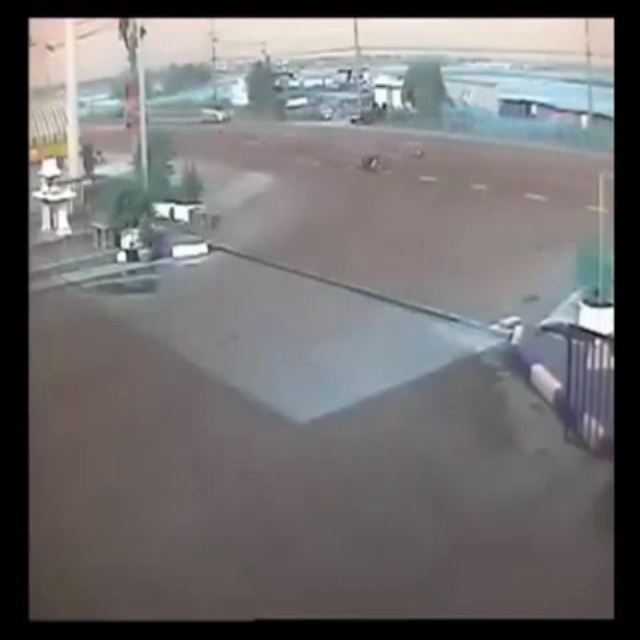acc: (353, 138, 428, 176)
